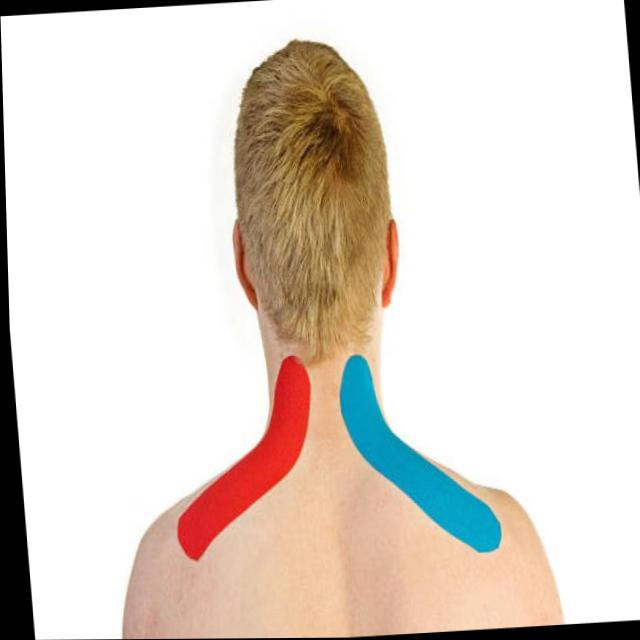no helmet: (214, 27, 411, 397)
